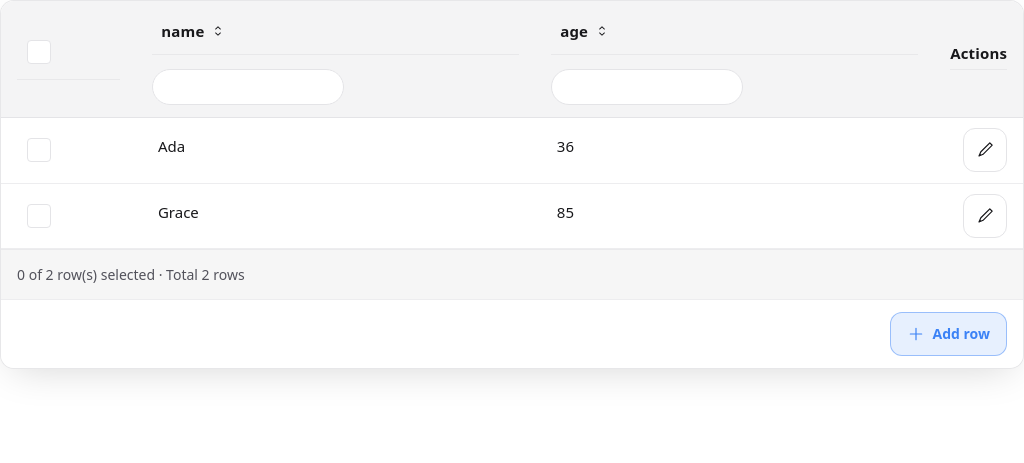
Test: EditableTable › opens a new row in edit mode after Add row
The image size is (1024, 463).
Click the button "Add row": (948, 334) [890,312,1007,356]
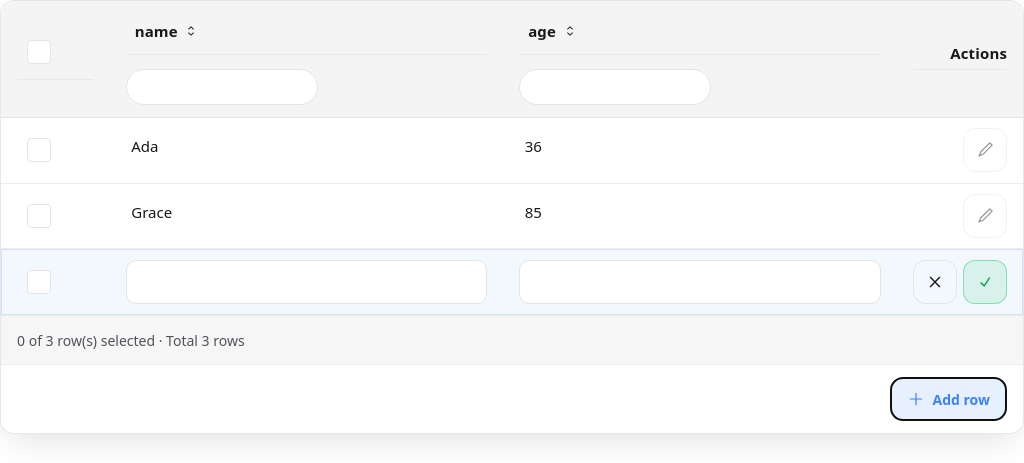
Now the number of fields with class "ert-cell-input" is 2, box [126,260,487,304]; [519,260,881,304]
